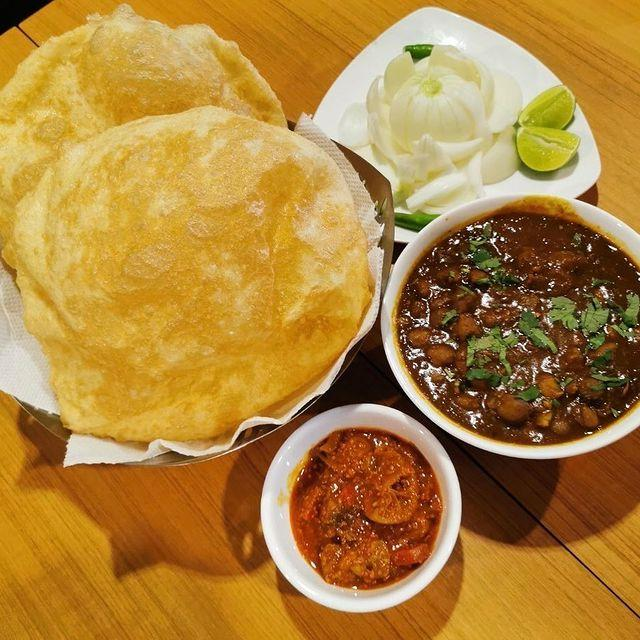Chole: (400, 273, 604, 441)
